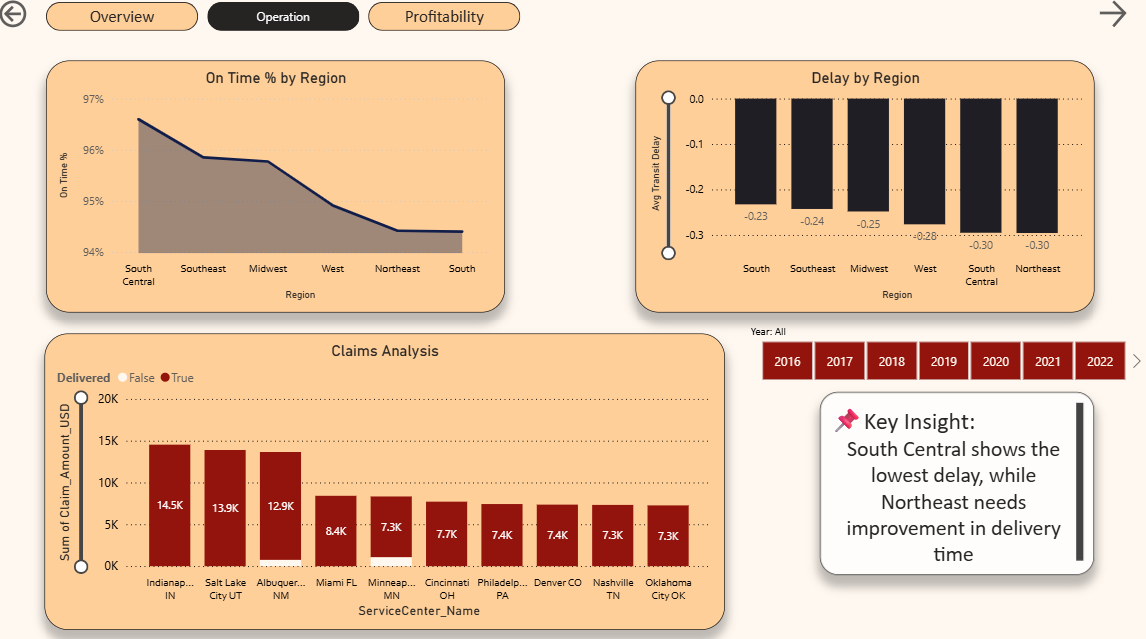

The page's visual inventory and layout, read from the dashboard file:
{"tool":"powerbi","page":{"name":"Operation","canvas":[1280,720],"ordinal":1},"visuals":[{"type":"shape","box":[0,0,1280.9,720.5],"z":0},{"type":"areaChart","fields":{"Category":["DIM_ServiceCenters.Region"],"Y":["FACT_Shipments.On Time %"]},"box":[56.3,71.9,510.2,280],"z":1000},{"type":"columnChart","title":"Delay by Region","fields":{"Category":["DIM_ServiceCenters.Region"],"Y":["FACT_Shipments.Avg Transit Delay"]},"box":[712.3,71.9,510.2,280],"z":2000},{"type":"columnChart","title":"Claims Analysis","fields":{"Category":["DIM_ServiceCenters.ServiceCenter_Name"],"Y":["Sum(FACT_Shipments.Claim_Amount_USD)"],"Series":["FACT_Shipments.Delivered"]},"box":[55.7,375.4,755.7,329.5],"z":3000},{"type":"actionButton","box":[0,0,57.4,39.7],"z":4000},{"type":"pageNavigator","box":[57.4,5.9,529.4,32.4],"z":5000},{"type":"actionButton","box":[1222.1,0,57.4,39.7],"z":6000},{"type":"textbox","box":[916.4,439.3,304.9,203.3],"z":7000},{"type":"slicer","fields":{"Values":["DIM_Equipment.Year"]},"box":[826.7,360,453.3,73.3],"z":7001}]}

Visuals, with their boxes in screenshot pixels (x1, y1, x2, y2), scaled from the page's 1280x720 canvas onto the 1146x639 screenshot:
shape: 0:0:1145:638
areaChart - DIM_ServiceCenters.Region x FACT_Shipments.On Time %: 50:64:507:312
"Delay by Region" columnChart: 638:64:1095:312
"Claims Analysis" columnChart: 50:333:726:626
actionButton: 0:0:51:35
pageNavigator: 51:5:525:34
actionButton: 1094:0:1145:35
textbox: 820:390:1093:570
slicer - DIM_Equipment.Year: 740:320:1145:385
